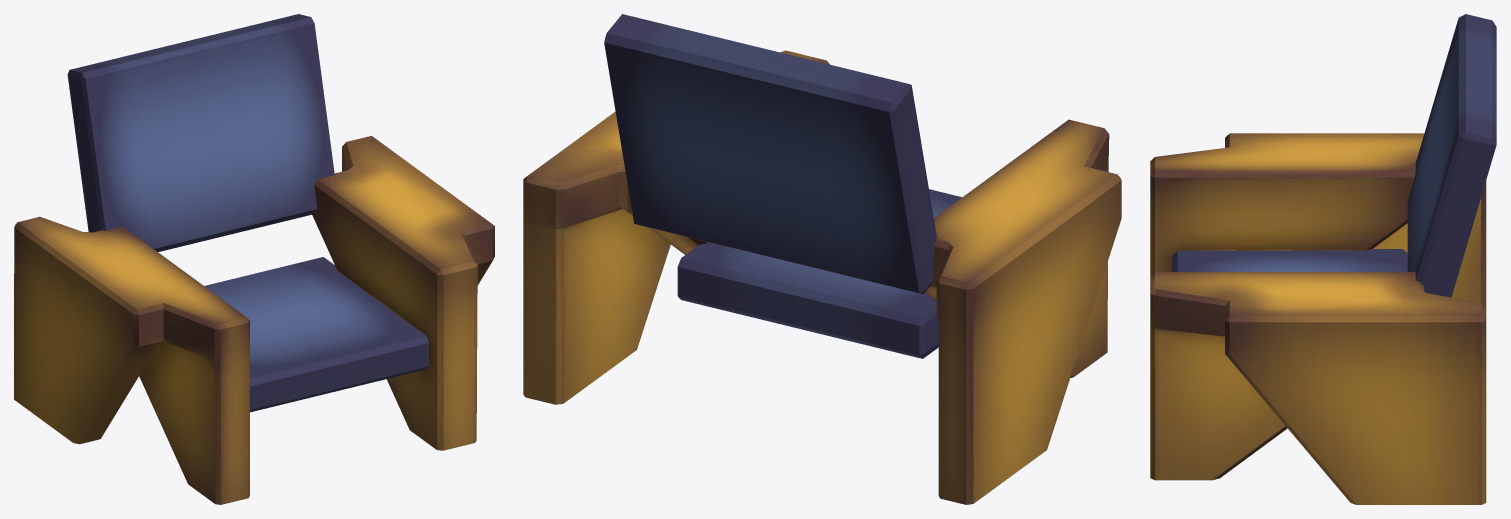
The model's file is seat.glb.
3 views of the same model, side by side, from view 1: azimuth 30°, elevation 25°; view 2: azimuth 150°, elevation 25°; view 3: azimuth 270°, elevation 25° (orthographic). The views are drawn at different scales.
Parts seen in each view (by area): view 1: Seat; view 2: Seat; view 3: Seat.
Boxes of the visible parts, bbox=[...] form: Seat: bbox=[14, 14, 494, 504]; Seat: bbox=[523, 14, 1121, 504]; Seat: bbox=[1150, 14, 1496, 504].
Size of the model in its own units: 1.18 by 1 by 0.9278.
1 material, 1 textured.
